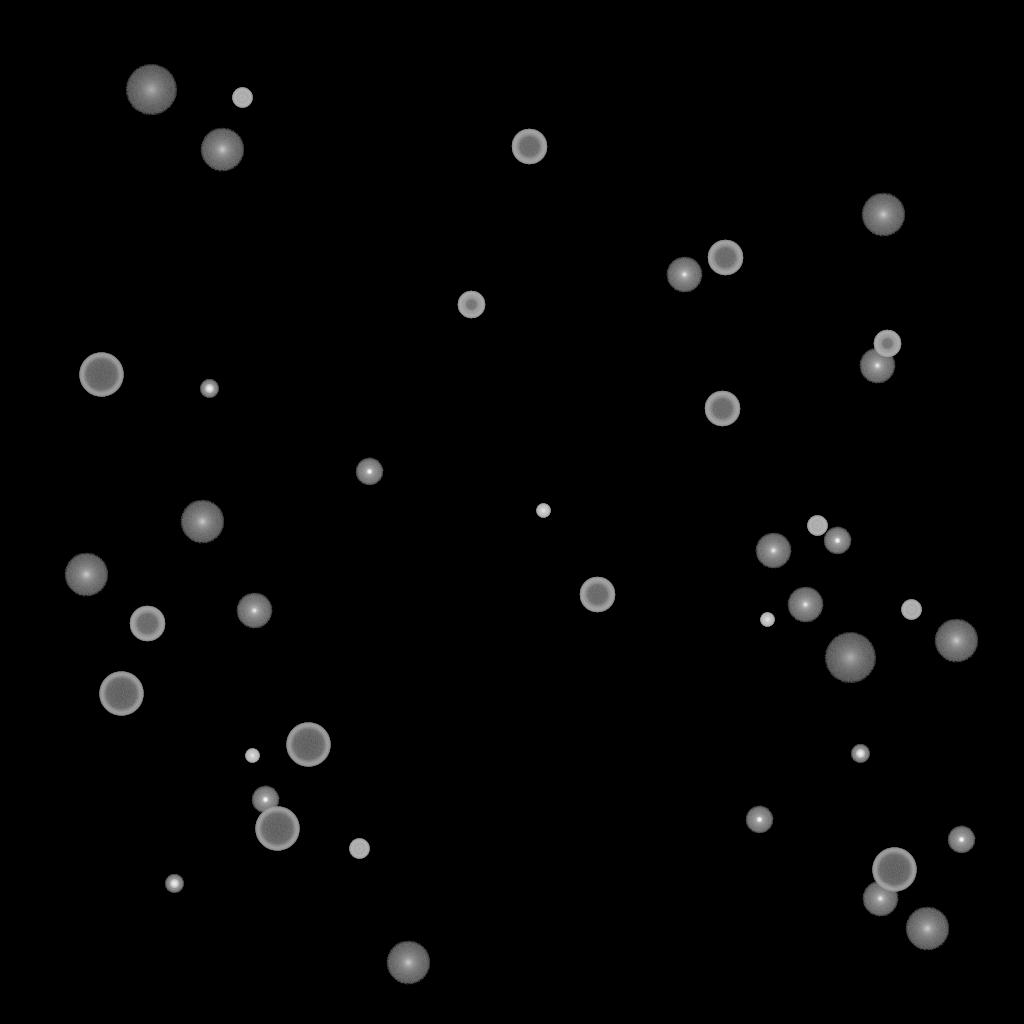depth:-10: (355, 458, 383, 486), (745, 806, 773, 834), (947, 826, 975, 854), (823, 527, 851, 555), (251, 786, 279, 814)
depth:-20: (200, 380, 218, 398), (851, 745, 869, 763), (165, 875, 183, 893)
depth:-30: (760, 613, 774, 627), (536, 504, 550, 518), (245, 749, 259, 763)
depth:-40: (232, 88, 252, 108), (807, 516, 827, 536), (349, 839, 369, 859), (901, 600, 921, 620)
depth:-50: (457, 291, 485, 319), (873, 330, 901, 358)
depth:-60: (511, 129, 547, 165), (704, 391, 740, 427), (129, 606, 165, 642), (579, 577, 615, 613), (707, 240, 743, 276)
depth:-70: (255, 807, 299, 851), (99, 672, 143, 716), (286, 723, 330, 767), (79, 353, 123, 397), (872, 848, 916, 892)
depth:0: (859, 348, 895, 384), (666, 257, 702, 293), (755, 533, 791, 569), (862, 881, 898, 917), (236, 593, 272, 629), (787, 587, 823, 623)
depth:10: (934, 619, 978, 663), (64, 553, 108, 597), (200, 128, 244, 172), (905, 907, 949, 951), (180, 500, 224, 544), (861, 193, 905, 237), (386, 941, 430, 985)
depth:20: (824, 633, 876, 683), (125, 65, 177, 115)
